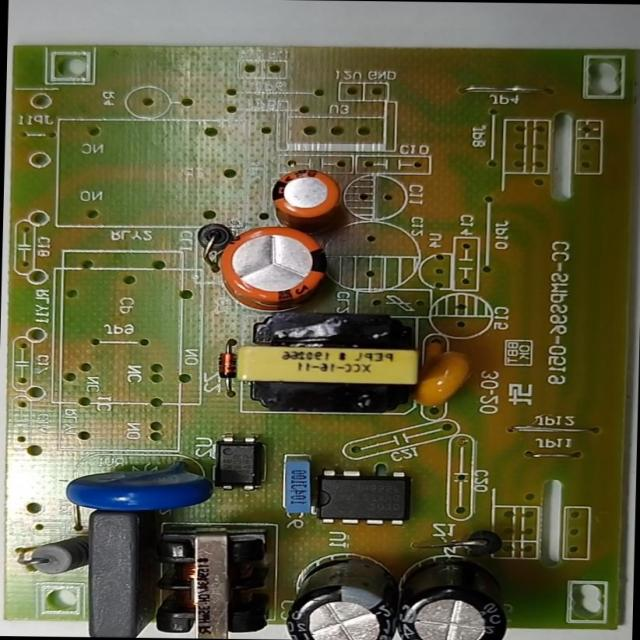Cap1: (198, 223, 338, 315)
Cap2: (258, 164, 356, 232)
Cap3: (276, 546, 410, 640)
Cap4: (385, 538, 524, 640)
MOSFET: (302, 464, 422, 530)
Mov: (54, 456, 226, 520)
Resistor: (9, 526, 90, 583)
Transformer: (230, 307, 432, 419), (148, 515, 271, 639)
